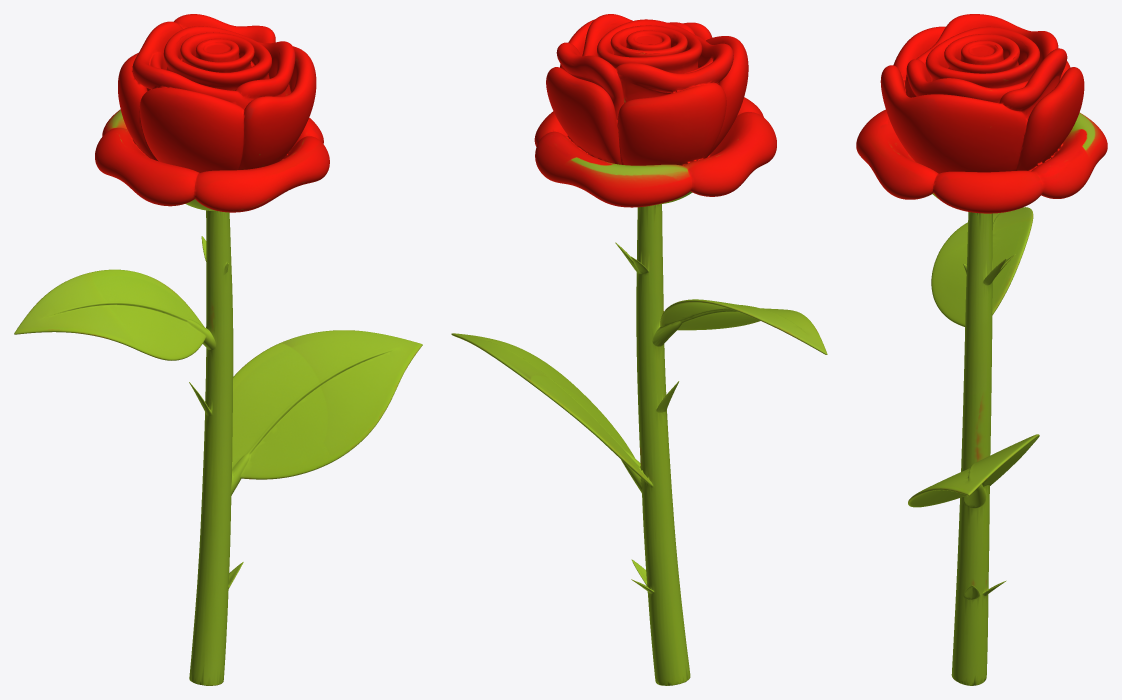
Rendered from hunyuan-rose.glb.
3 renders of one model, left to right at view 1: azimuth 30°, elevation 25°; view 2: azimuth 150°, elevation 25°; view 3: azimuth 270°, elevation 25°, orthographic. The views are drawn at different scales.
Visible parts, largest first — view 1: material; view 2: material; view 3: material.
Part boxes in pixels (<box>): material: <box>14,14,422,685</box>; material: <box>451,14,827,685</box>; material: <box>856,14,1107,685</box>.
Bounding box in the file's own units: 0.7557 × 1.18 × 0.4173.
1 material, 1 textured.
